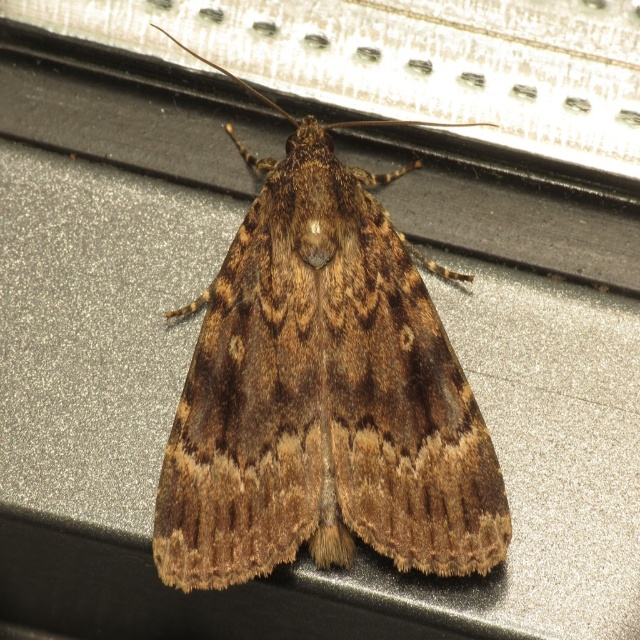Butterfly: (121, 82, 520, 590)
